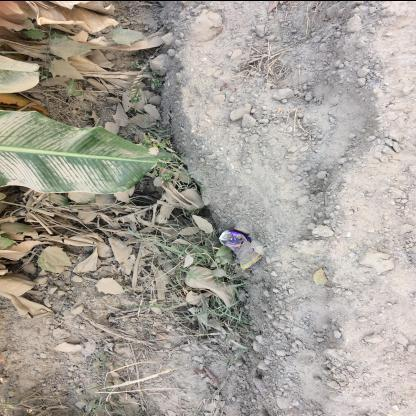plastik: (220, 229, 266, 271)
